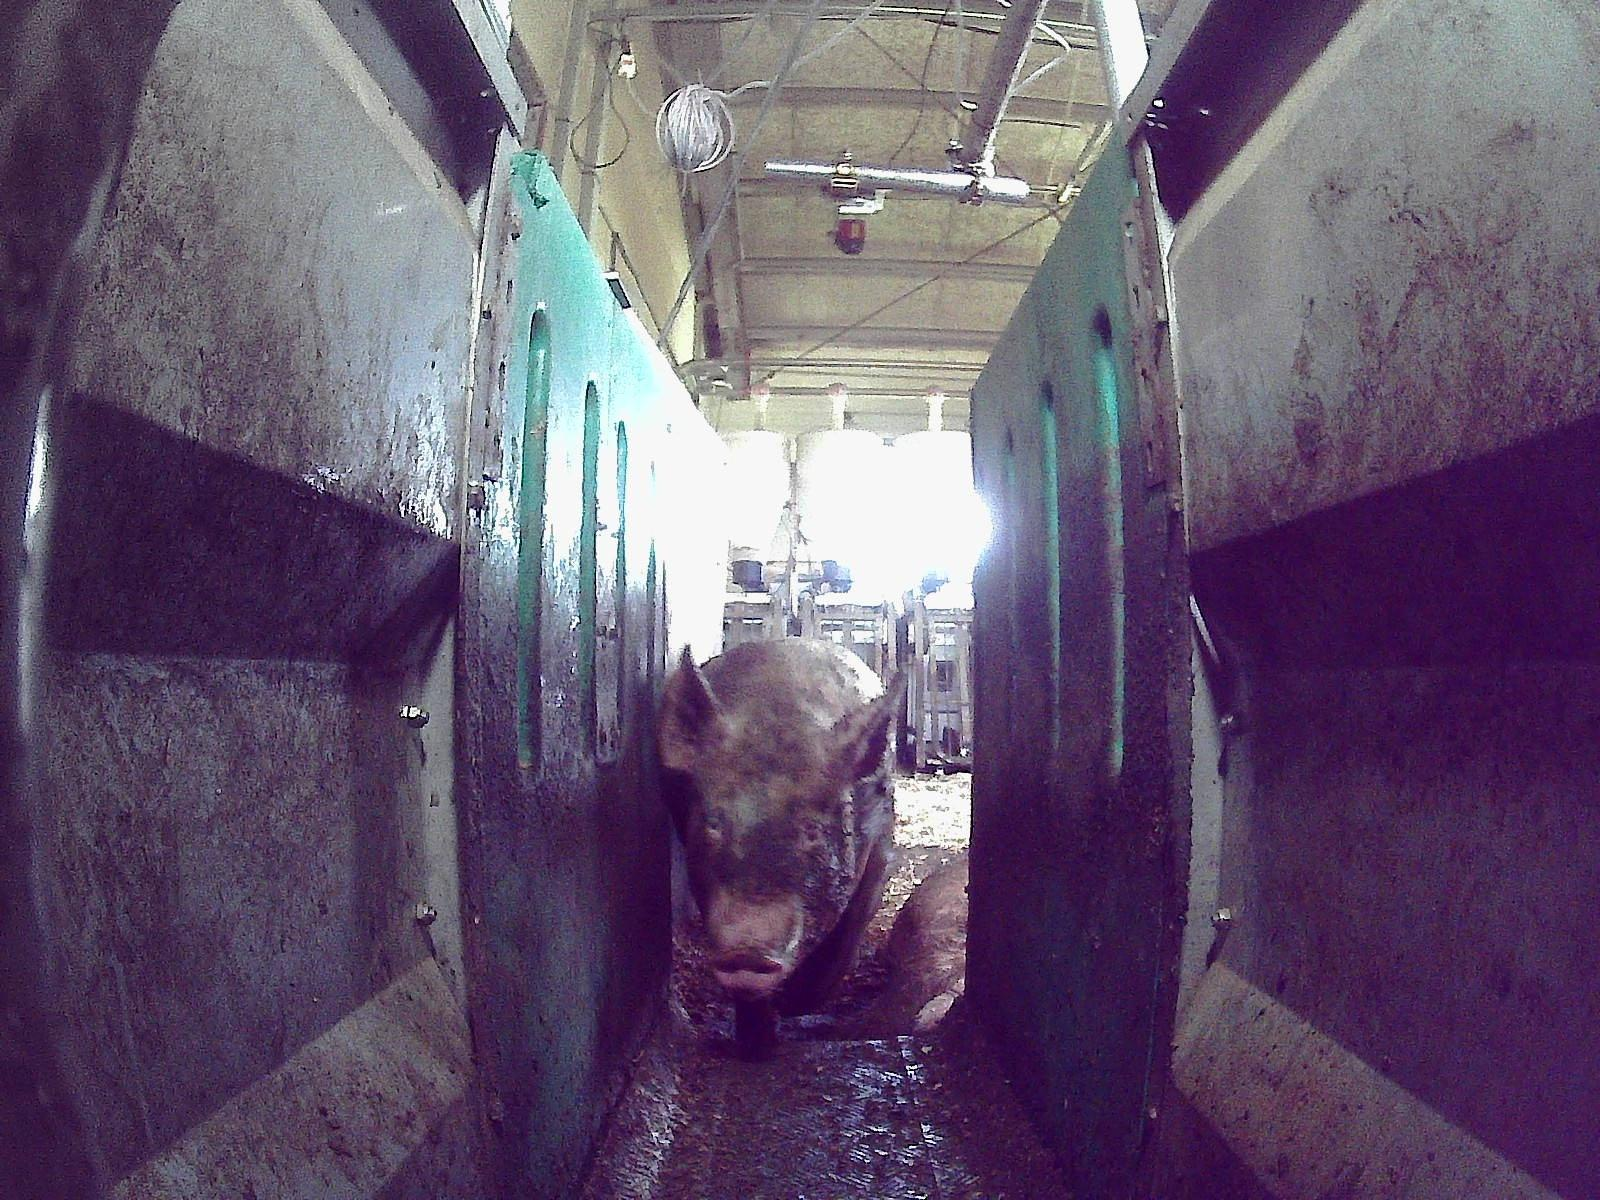Face: (684, 730, 859, 997)
